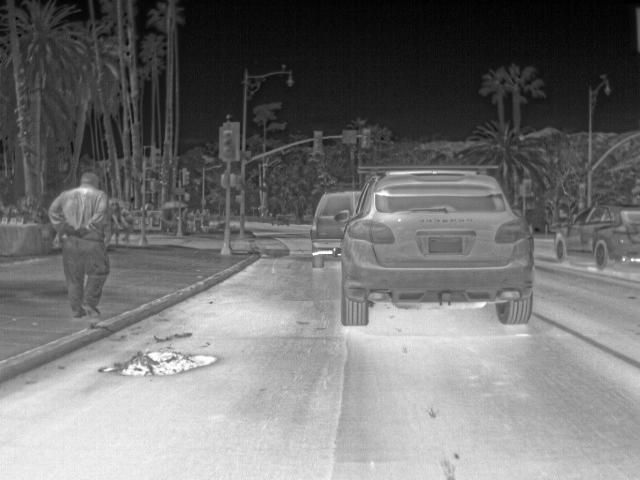car: (337, 162, 539, 324), (553, 200, 640, 271), (310, 188, 368, 266)
person: (46, 174, 113, 320), (108, 200, 124, 246), (120, 200, 136, 242)
